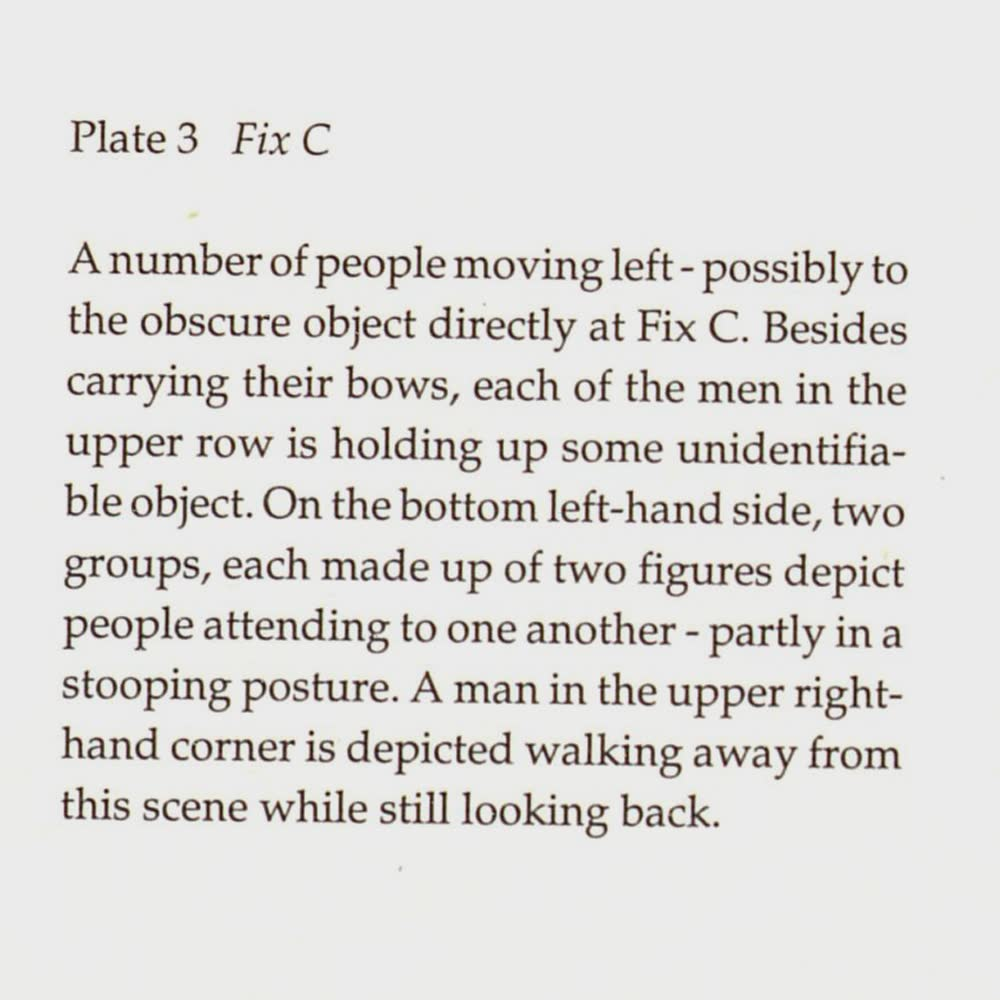text: (50, 112, 919, 845)
